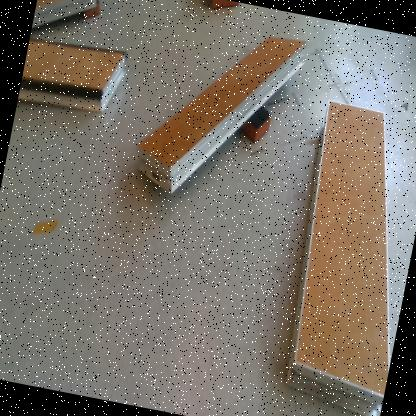Stairs: (287, 101, 389, 416), (137, 34, 308, 196), (18, 39, 127, 115), (32, 1, 96, 31)
